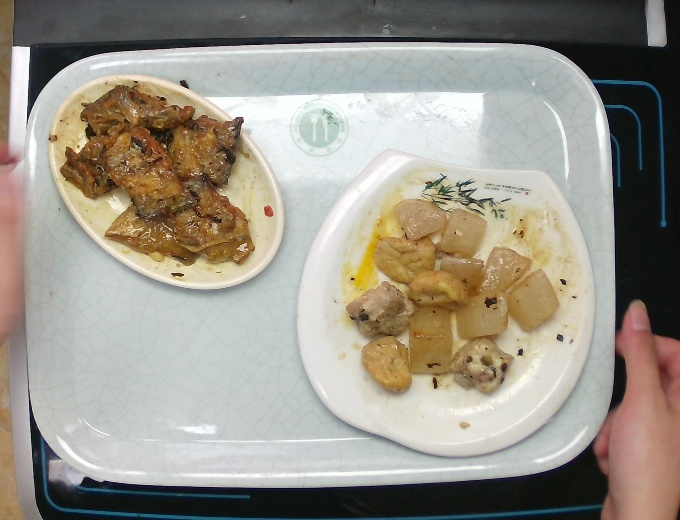JYsf-Mian_Pan: (283, 140, 606, 469)
JYsf-Tuo_Yuan_Wan: (47, 75, 289, 296)
